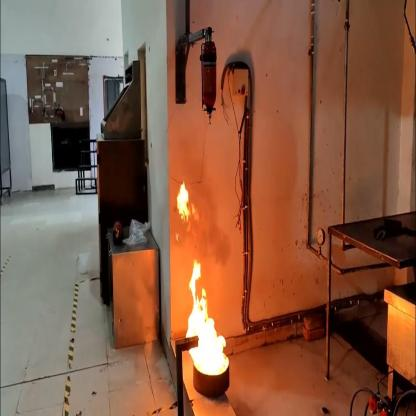fire: (184, 258, 225, 382)
